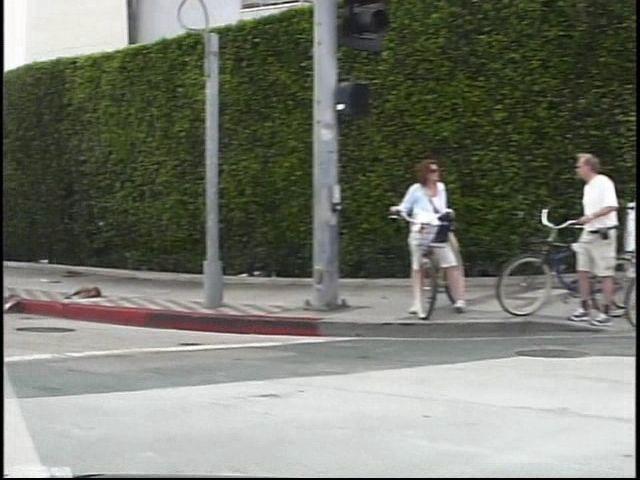person: (388, 158, 454, 326), (555, 153, 605, 333)
